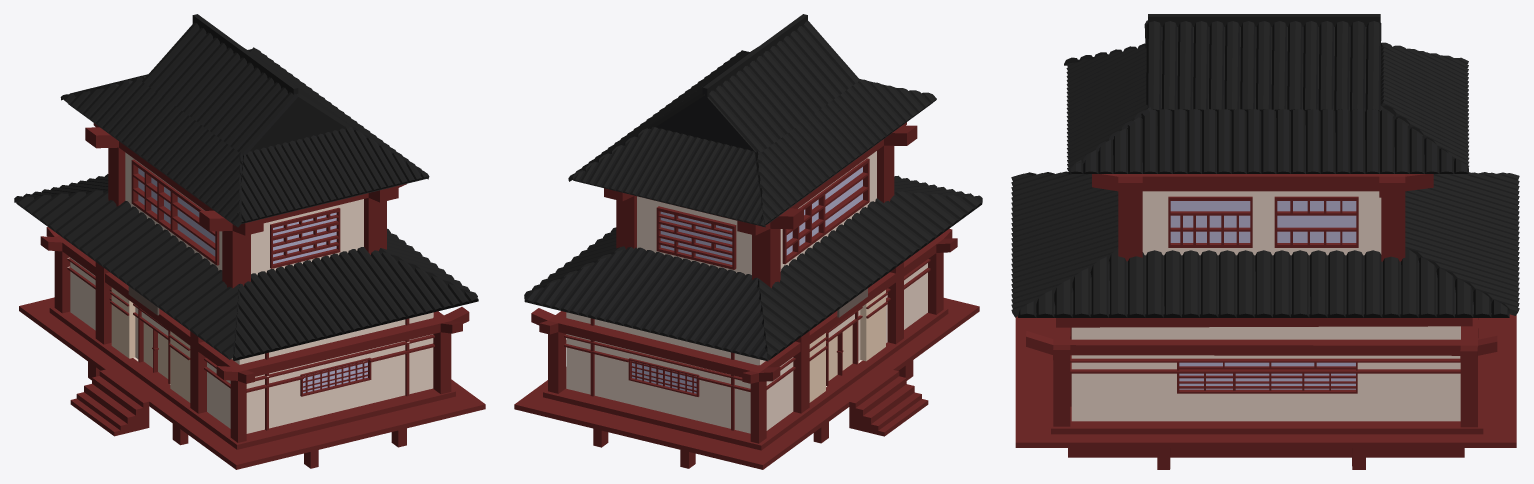
Rendered from Luna_Templejapan.fbx.
The picture shows the model from 3 angles, left to right: view 1: azimuth 30°, elevation 25°; view 2: azimuth 150°, elevation 25°; view 3: azimuth 270°, elevation 25°; orthographic projection. The views are drawn at different scales.
Visible parts, largest first — view 1: Dak boven, dak beneden, tample frame, temple, windowframes, balk boven, dake frame, door, temple boven, Ramen, frame down, door frame; view 2: Dak boven, dak beneden, tample frame, temple, windowframes, balk boven, dake frame, Ramen, door, temple boven, frame down, door frame; view 3: Dak boven, dak beneden, tample frame, temple, windowframes, balk boven, Ramen, temple boven, dake frame, balk beneden, dak onder plane, frame down.
Boxes of the visible parts, x1=… form: Dak boven: x1=60, y1=22, x2=429, y2=227; dak beneden: x1=14, y1=174, x2=478, y2=360; tample frame: x1=19, y1=227, x2=485, y2=469; temple: x1=67, y1=257, x2=433, y2=433; windowframes: x1=131, y1=159, x2=371, y2=396; balk boven: x1=85, y1=123, x2=406, y2=288; dake frame: x1=68, y1=14, x2=426, y2=225; door: x1=111, y1=287, x2=190, y2=402; temple boven: x1=125, y1=152, x2=363, y2=275; Ramen: x1=138, y1=168, x2=367, y2=393; frame down: x1=67, y1=257, x2=434, y2=430; door frame: x1=133, y1=303, x2=170, y2=384; Dak boven: x1=568, y1=21, x2=936, y2=227; dak beneden: x1=524, y1=175, x2=982, y2=361; tample frame: x1=514, y1=228, x2=979, y2=469; temple: x1=566, y1=263, x2=927, y2=433; windowframes: x1=628, y1=158, x2=869, y2=396; balk boven: x1=604, y1=122, x2=917, y2=288; dake frame: x1=655, y1=14, x2=932, y2=224; Ramen: x1=632, y1=167, x2=862, y2=393; door: x1=809, y1=290, x2=885, y2=402; temple boven: x1=637, y1=151, x2=876, y2=274; frame down: x1=564, y1=259, x2=930, y2=430; door frame: x1=826, y1=306, x2=862, y2=386; Dak boven: x1=1064, y1=20, x2=1469, y2=173; dak beneden: x1=1011, y1=171, x2=1519, y2=317; tample frame: x1=1015, y1=314, x2=1516, y2=469; temple: x1=1071, y1=326, x2=1460, y2=421; windowframes: x1=1168, y1=196, x2=1358, y2=393; balk boven: x1=1092, y1=174, x2=1433, y2=261; Ramen: x1=1170, y1=201, x2=1356, y2=389; temple boven: x1=1142, y1=191, x2=1381, y2=255; dake frame: x1=1098, y1=14, x2=1454, y2=173; balk beneden: x1=1056, y1=318, x2=1472, y2=327; dak onder plane: x1=1035, y1=255, x2=1512, y2=314; frame down: x1=1070, y1=327, x2=1460, y2=406.
Bounding box in the file's own units: 12.28 × 13.72 × 16.48.
